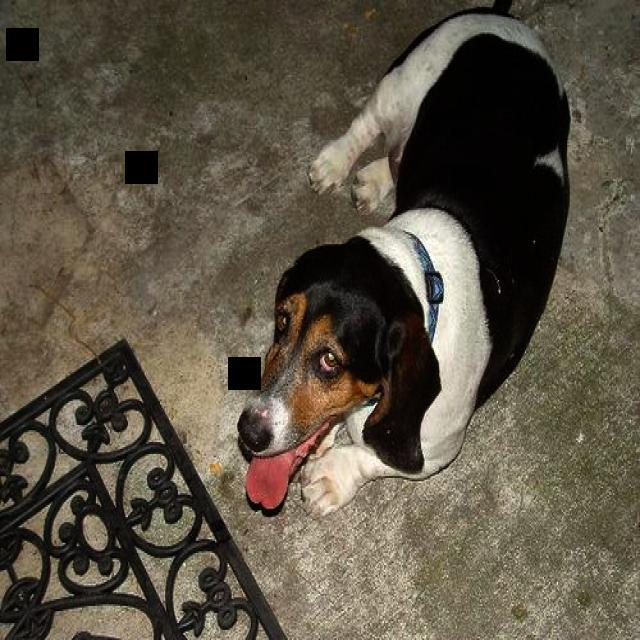adult_dog: (233, 4, 574, 526)
